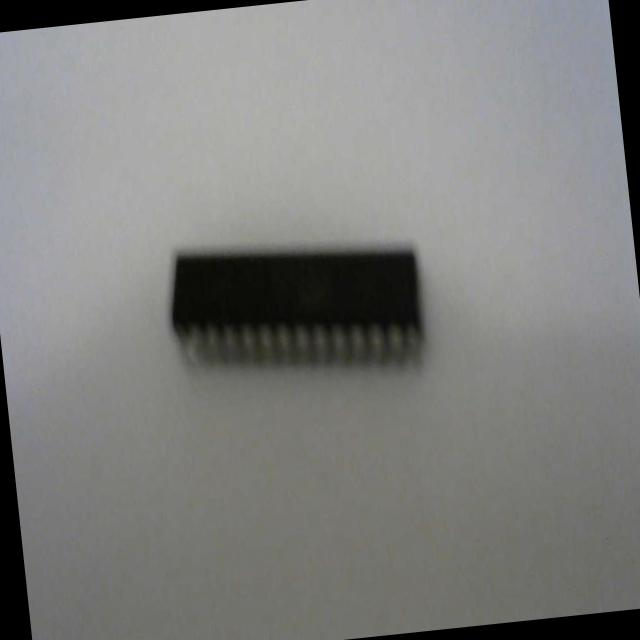atmega: (160, 219, 431, 396)
